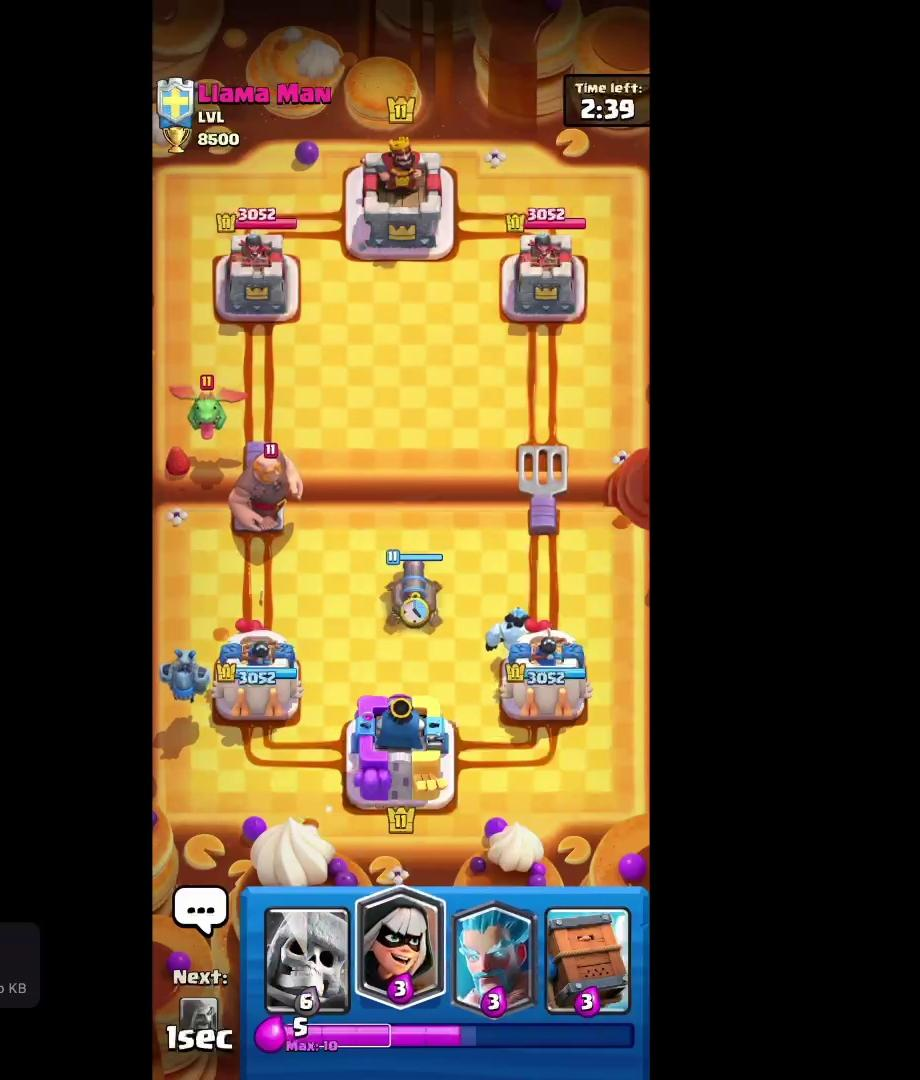Baby Dragon: (154, 369, 251, 442)
Giant: (226, 433, 312, 547)
